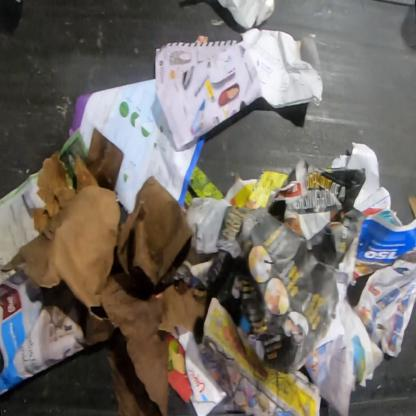cardboard: (0, 126, 209, 415)
